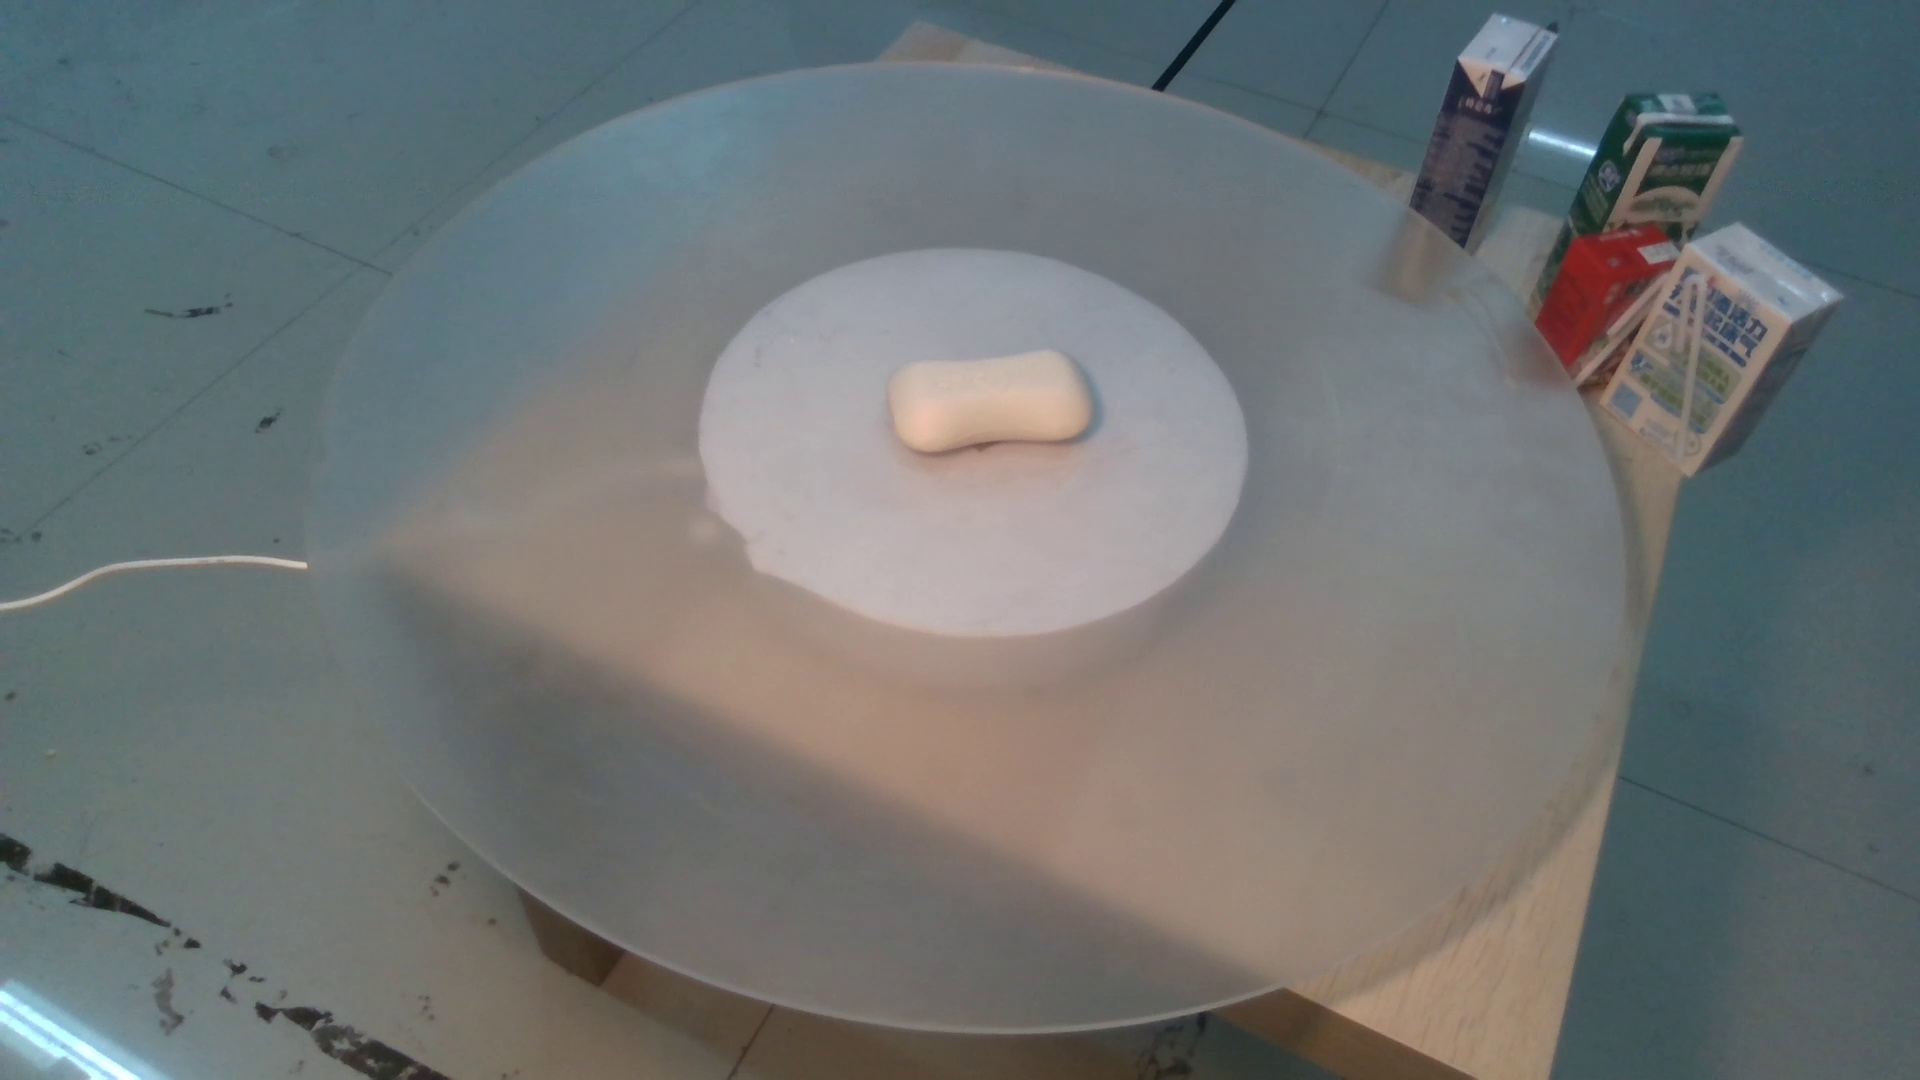CA003_1: (856, 339, 1101, 462)
